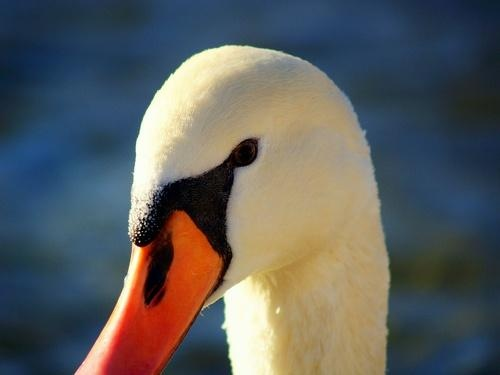bird: (74, 44, 392, 375)
